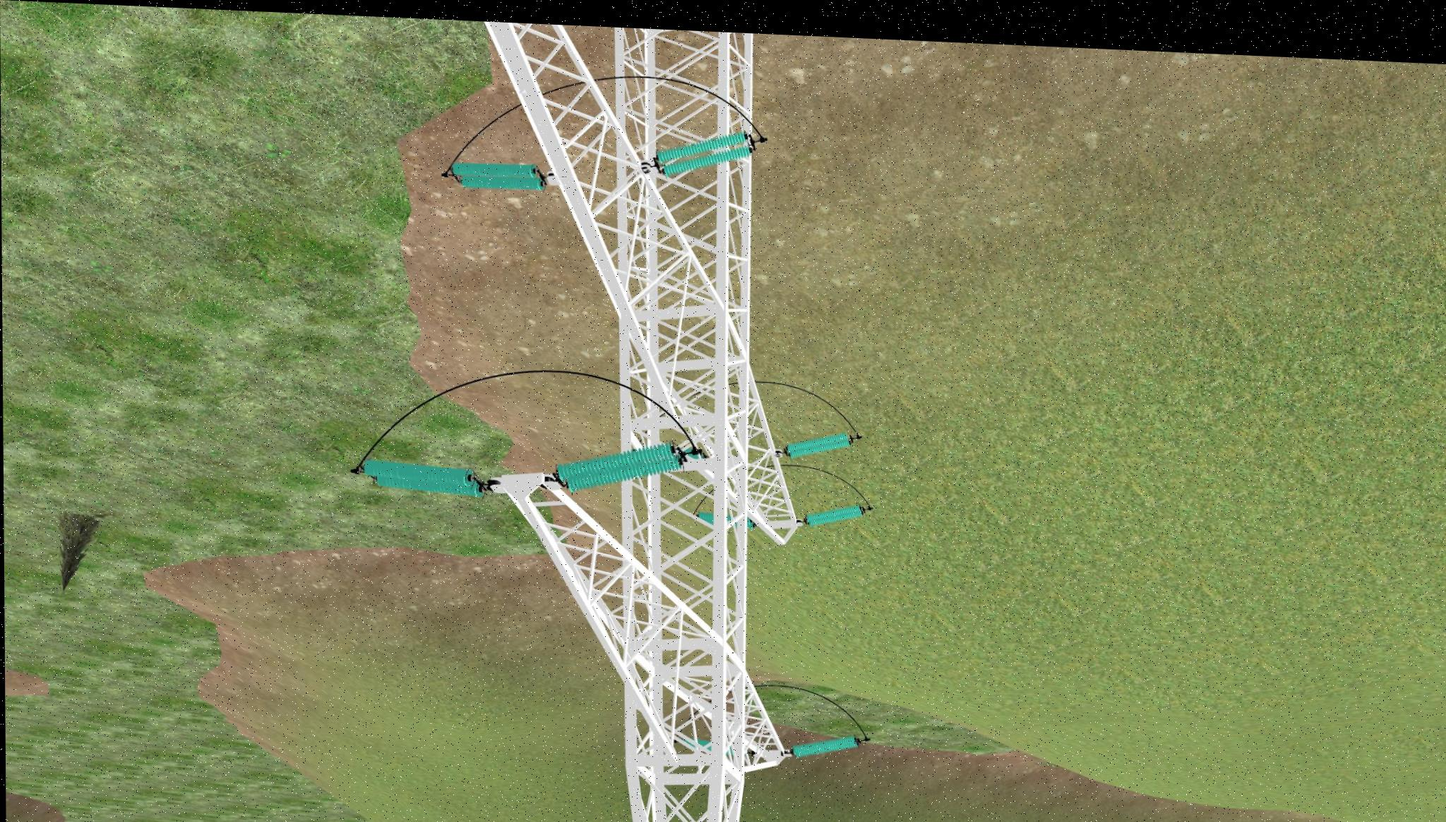tower: (484, 22, 805, 822)
